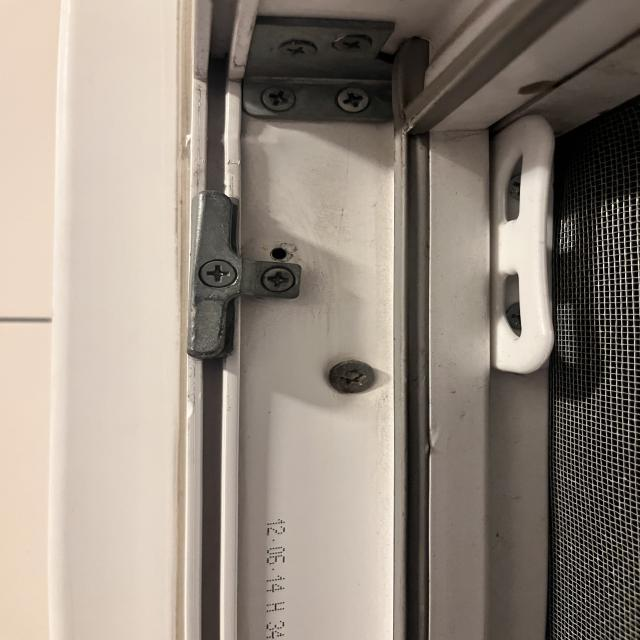phillips: (198, 260, 238, 288), (262, 85, 296, 112), (260, 267, 296, 292), (336, 86, 369, 113), (278, 39, 318, 60), (333, 34, 372, 54)
torx: (328, 361, 376, 394)
